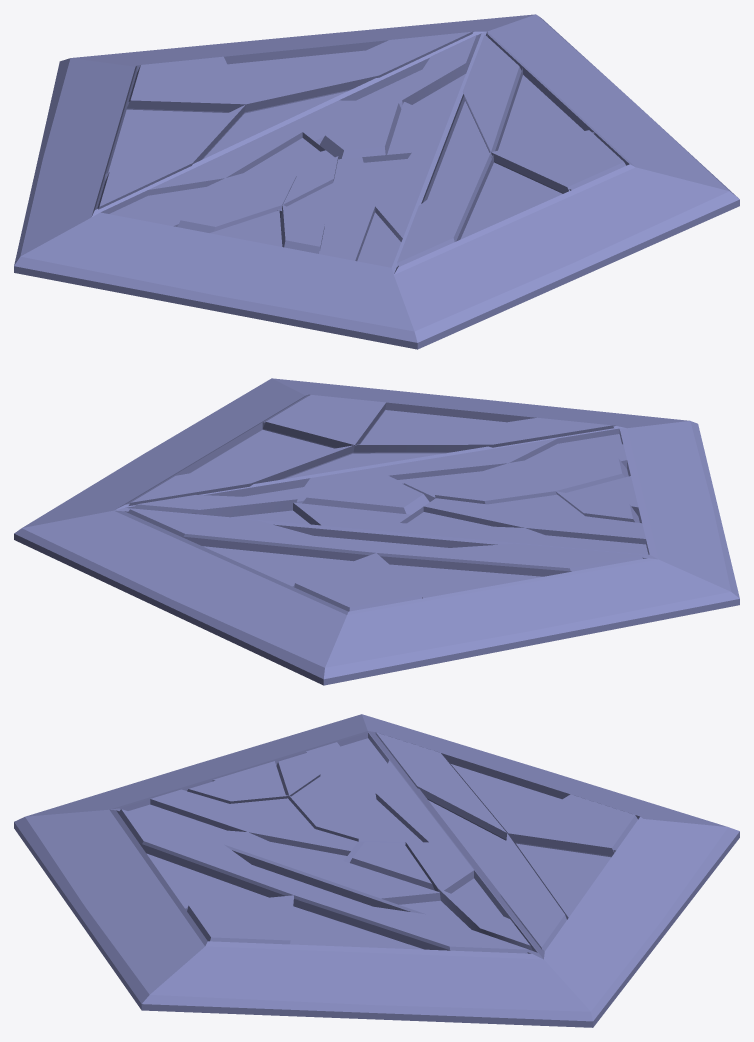
Rendered from energy shield fracture.fbx.
3 views of the same model, one above another, from view 1: azimuth 30°, elevation 25°; view 2: azimuth 150°, elevation 25°; view 3: azimuth 270°, elevation 25° (orthographic). The views are drawn at different scales.
Visible parts, largest first — view 1: pCylinder1; view 2: pCylinder1; view 3: pCylinder1.
Part boxes in pixels (box(x1,y1,x2,y2)): pCylinder1: box(14, 14, 739, 349); pCylinder1: box(14, 378, 739, 685); pCylinder1: box(14, 714, 739, 1027).
Size of the model in its own units: 1.9 by 0.1091 by 1.92.
